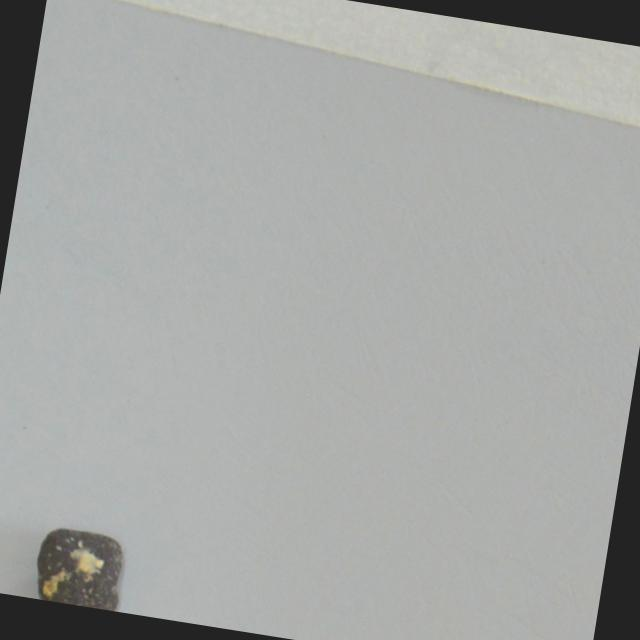cuerpos_extranos: (28, 521, 128, 612)
